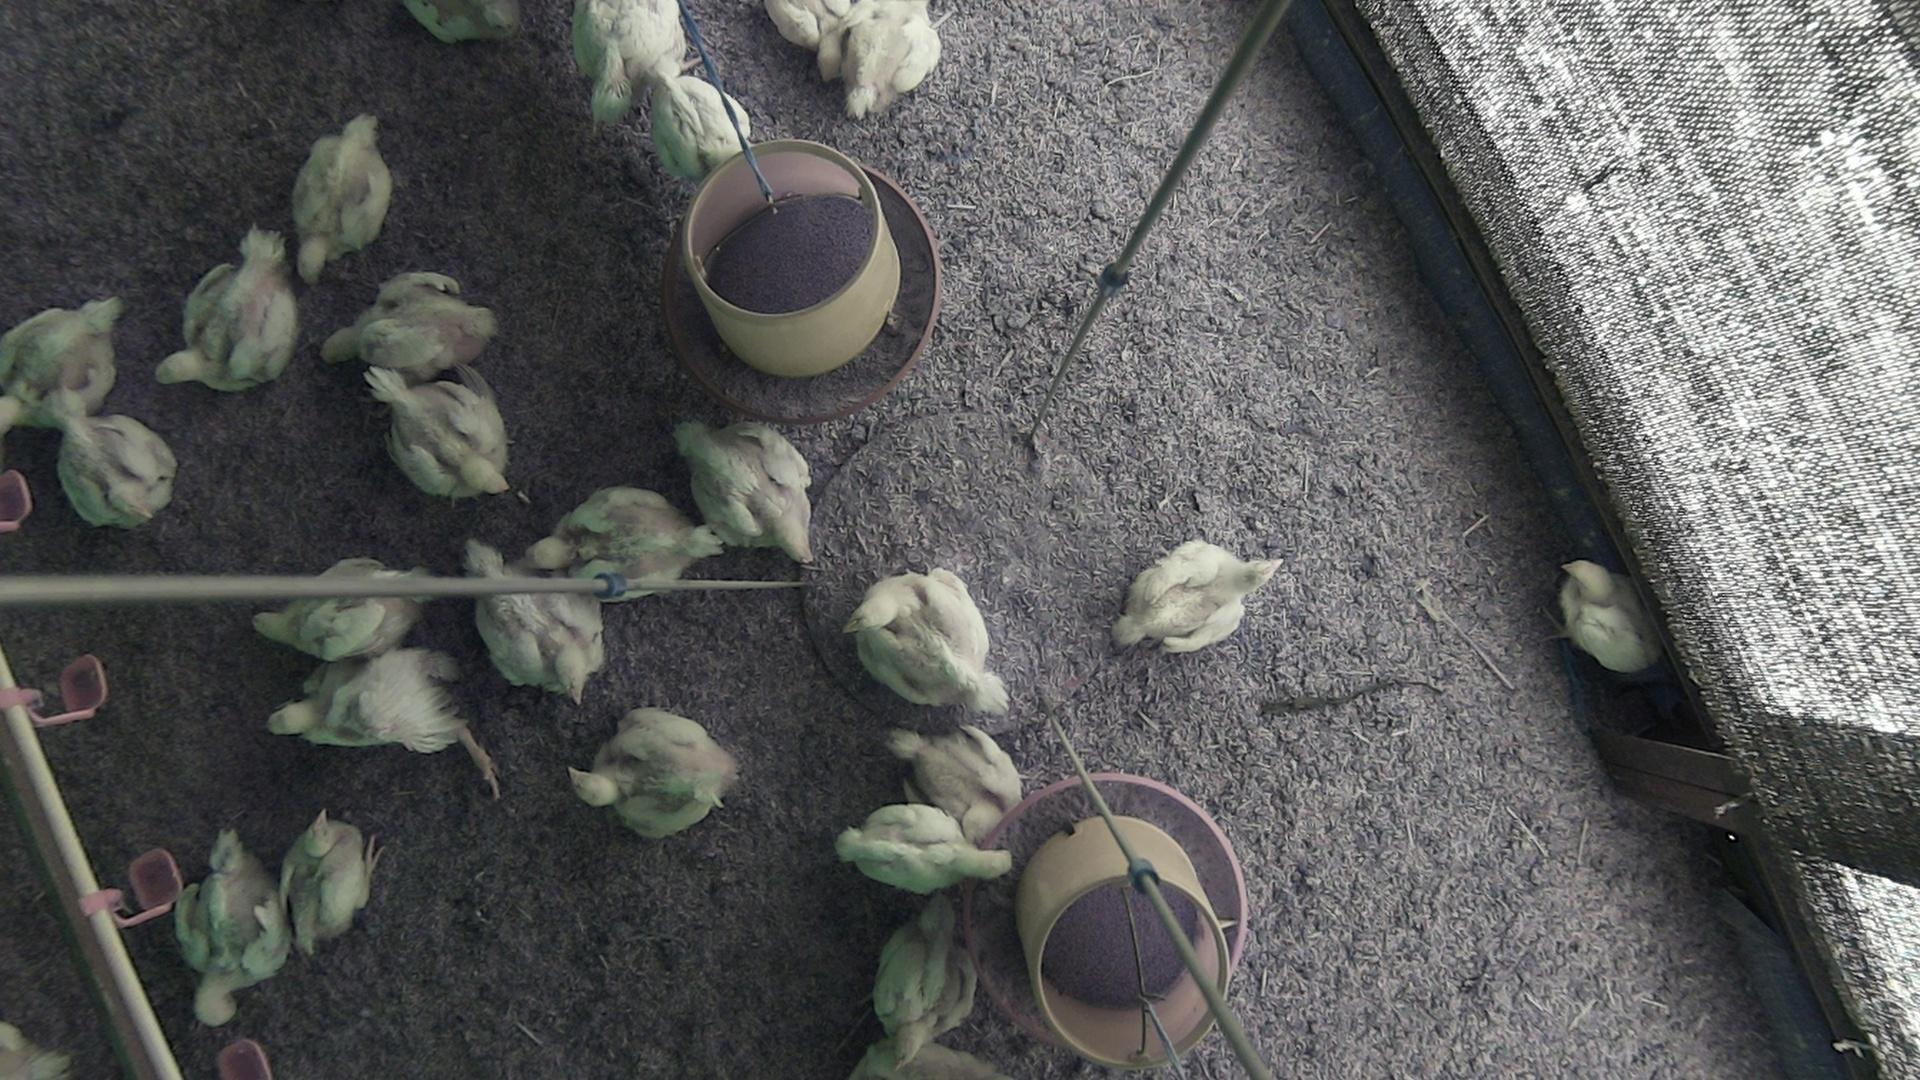ayam_broiler: (268, 646, 516, 802), (852, 567, 1007, 717), (154, 228, 298, 389), (568, 707, 740, 839), (467, 535, 604, 700), (178, 828, 291, 1026), (530, 484, 723, 592), (674, 418, 812, 564), (365, 367, 509, 497), (1116, 539, 1279, 653), (320, 270, 497, 375), (870, 899, 977, 1067), (0, 294, 121, 435), (291, 112, 393, 280), (252, 562, 423, 659), (281, 810, 388, 959), (835, 803, 1011, 893), (641, 73, 752, 210), (54, 409, 175, 527), (885, 724, 1021, 825), (575, 0, 687, 123), (841, 0, 939, 119), (1560, 560, 1654, 673), (764, 0, 852, 75)
